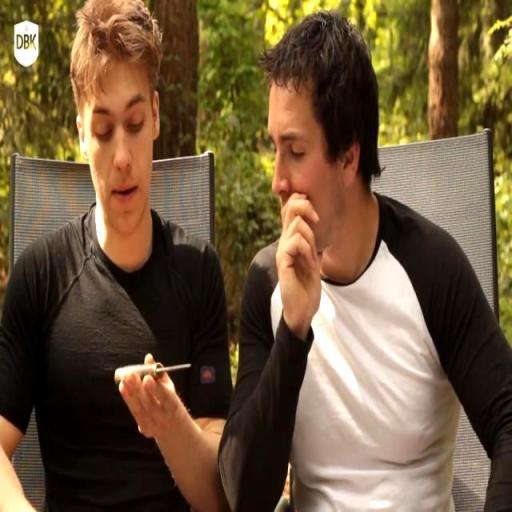knife: (104, 335, 197, 417)
